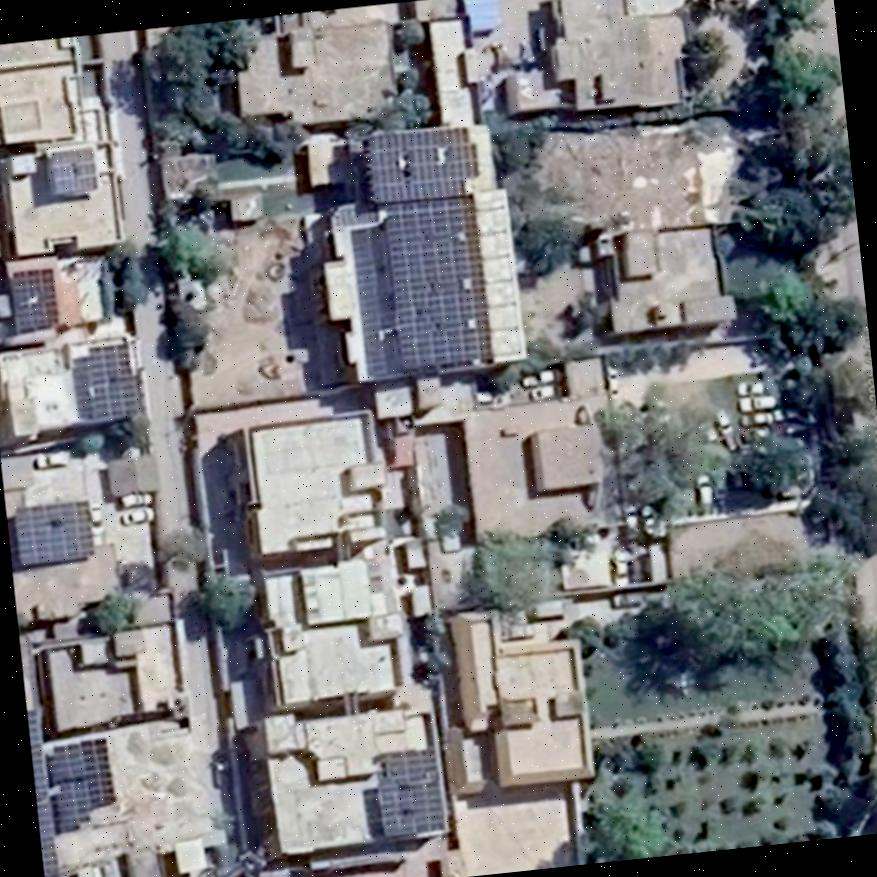Solarpanel: (368, 123, 492, 366), (47, 733, 116, 829), (26, 707, 62, 877), (371, 750, 443, 833), (70, 340, 144, 420), (15, 496, 90, 568), (12, 266, 56, 331), (44, 145, 96, 193)
